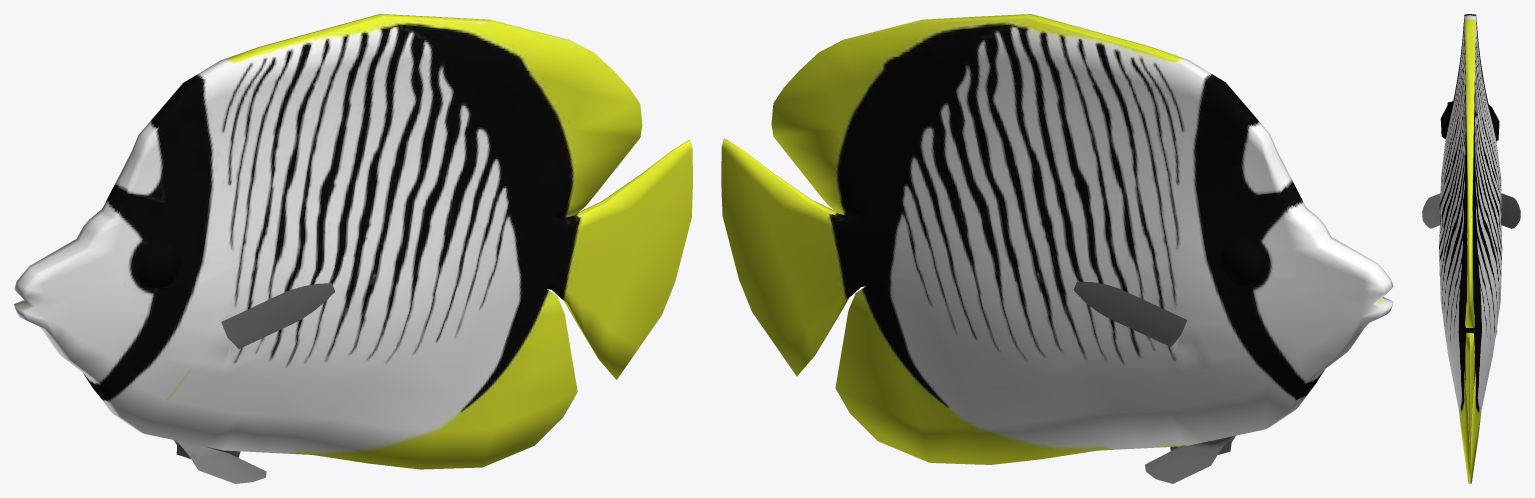
The model's file is lined.glb.
The picture shows the model from 3 angles, left to right: view 1: azimuth 30°, elevation 25°; view 2: azimuth 150°, elevation 25°; view 3: azimuth 270°, elevation 25°; orthographic projection. The views are drawn at different scales.
Parts seen in each view (by area): view 1: Object_2, Object_4, Object_3; view 2: Object_2, Object_4, Object_3; view 3: Object_2, Object_4, Object_3.
Part boxes in pixels (x1,y1,x2,y2): Object_2: (14,14,692,469); Object_4: (173,283,334,483); Object_3: (134,239,181,288); Object_2: (721,14,1393,464); Object_4: (1073,281,1235,483); Object_3: (1220,237,1267,286); Object_2: (1439,14,1502,483); Object_4: (1422,193,1520,336); Object_3: (1440,101,1499,141).
Size of the model in its own units: 2.75 by 1.85 by 0.4554.
Materials: 3 (1 with a texture image).
